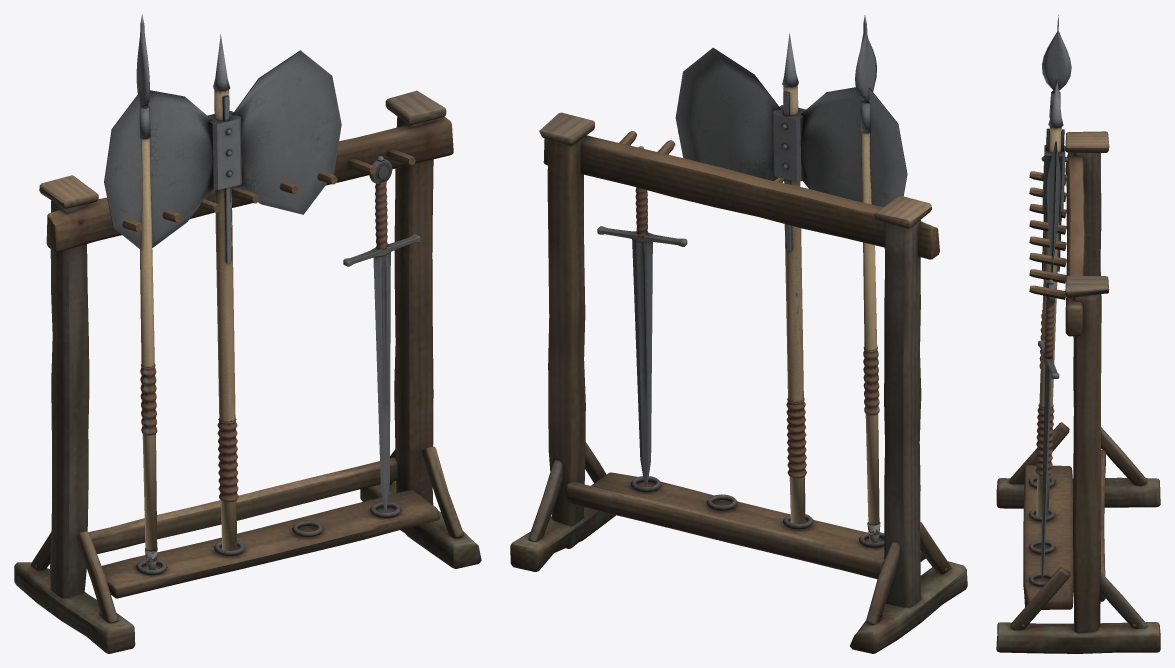
Rendered from weapon-rack.glb.
The picture shows the model from 3 angles, left to right: view 1: azimuth 30°, elevation 25°; view 2: azimuth 150°, elevation 25°; view 3: azimuth 270°, elevation 25°; orthographic projection. The views are drawn at different scales.
Parts seen in each view (by area): view 1: weapon-rack, Contents; view 2: weapon-rack, Contents; view 3: weapon-rack, Contents.
Part boxes in pixels (<box>): weapon-rack: <box>14,90,481,653</box>; Contents: <box>104,14,420,569</box>; weapon-rack: <box>510,112,967,653</box>; Contents: <box>597,15,907,542</box>; weapon-rack: <box>996,131,1160,653</box>; Contents: <box>1035,15,1071,581</box>.
Size of the model in its own units: 0.9224 by 1.32 by 0.3833.
Materials: 1 (1 with a texture image).
